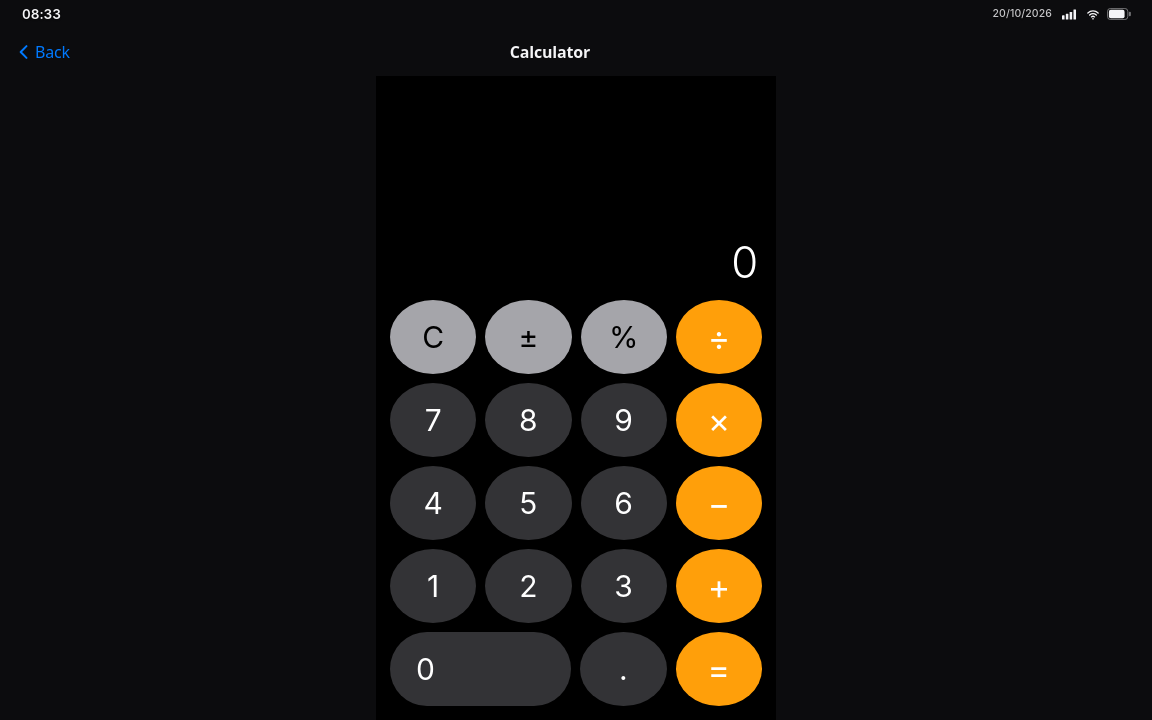
Test case: CalculatorApp (mobile) › C clears the display back to 0
The width and height of the screenshot is (1152, 720).
What coordinates should you click on to do the following:
click the button "9"
I would click on:
 (624, 420)
Its box is [580,383,667,457].
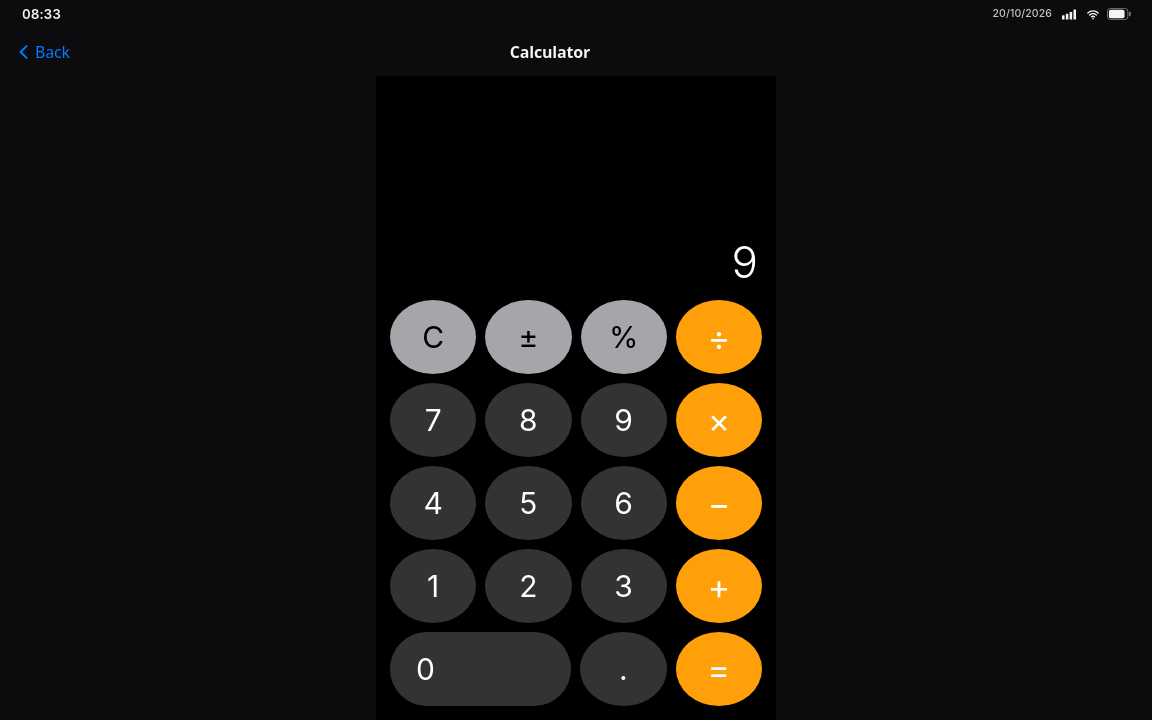
What coordinates should you click on to do the following:
click the button "C"
I would click on:
 (433, 337)
Its box is [390,300,476,374].
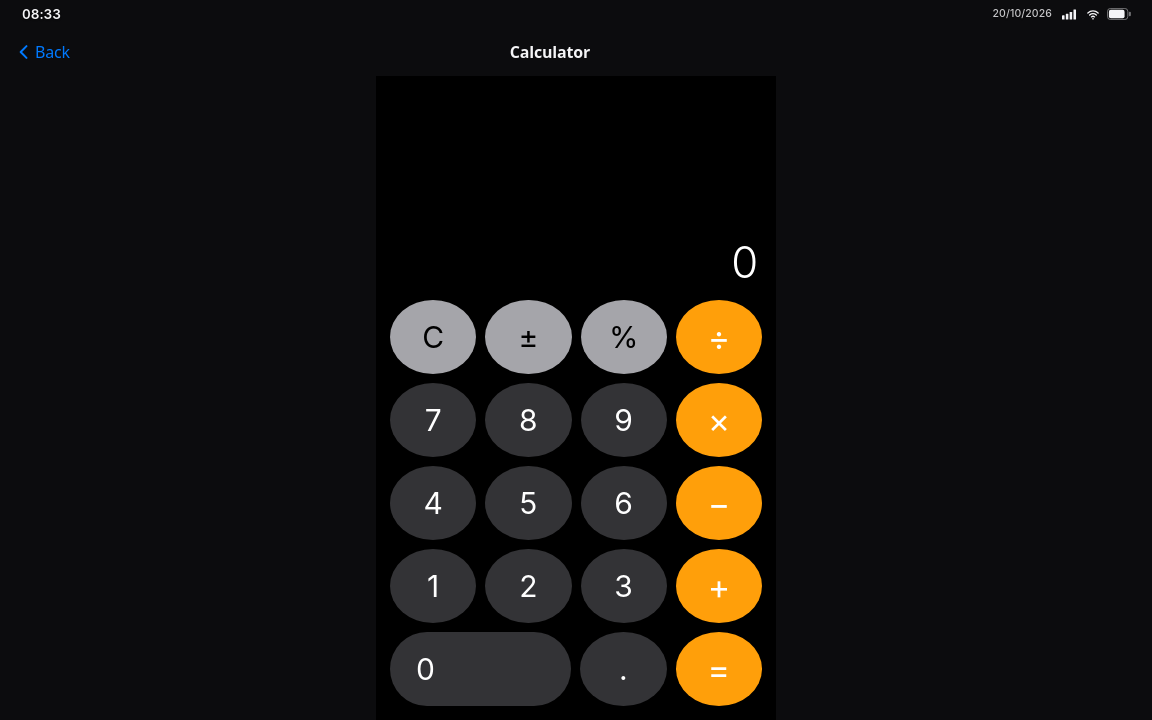
Expected: the text with test id "mobile-calculator-display" reads "0", [730,235,758,289]
